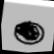correct: (6, 13, 52, 53)
